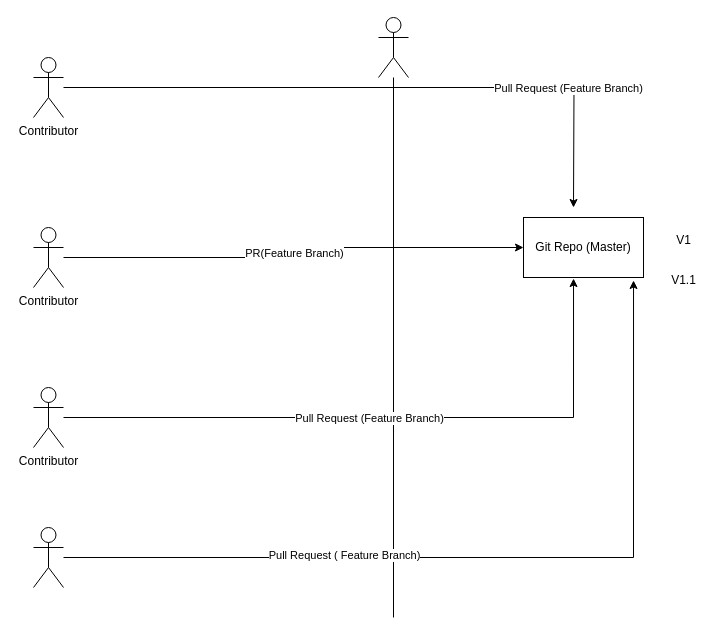
The diagram is 726 pixels wide and 636 high, and some of its shapes have lost their labels. Each missing label, with the centre of its shape:
"Approver" goes at [393,47].
"Controbutor" goes at [48,557].
